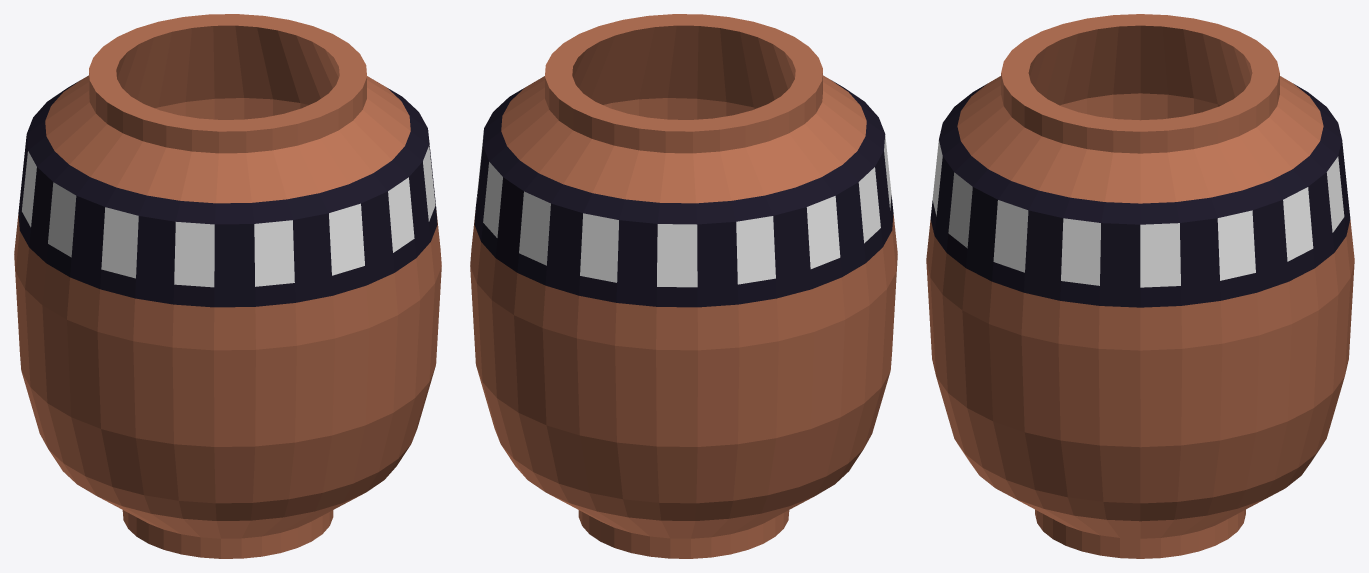
File: JeremíasBorgobello-4D-Jarrón.fbx
The picture shows the model from 3 angles, left to right: view 1: azimuth 30°, elevation 25°; view 2: azimuth 150°, elevation 25°; view 3: azimuth 270°, elevation 25°; orthographic projection.
Visible parts, largest first — view 1: Cylinder; view 2: Cylinder; view 3: Cylinder.
Part boxes in pixels (left/top/right/bottom): Cylinder: left=14, top=14, right=441, bottom=558; Cylinder: left=470, top=14, right=897, bottom=558; Cylinder: left=926, top=14, right=1354, bottom=558.
Bounding box in the file's own units: 191 × 217 × 191.
Materials: 1 (1 with a texture image).
